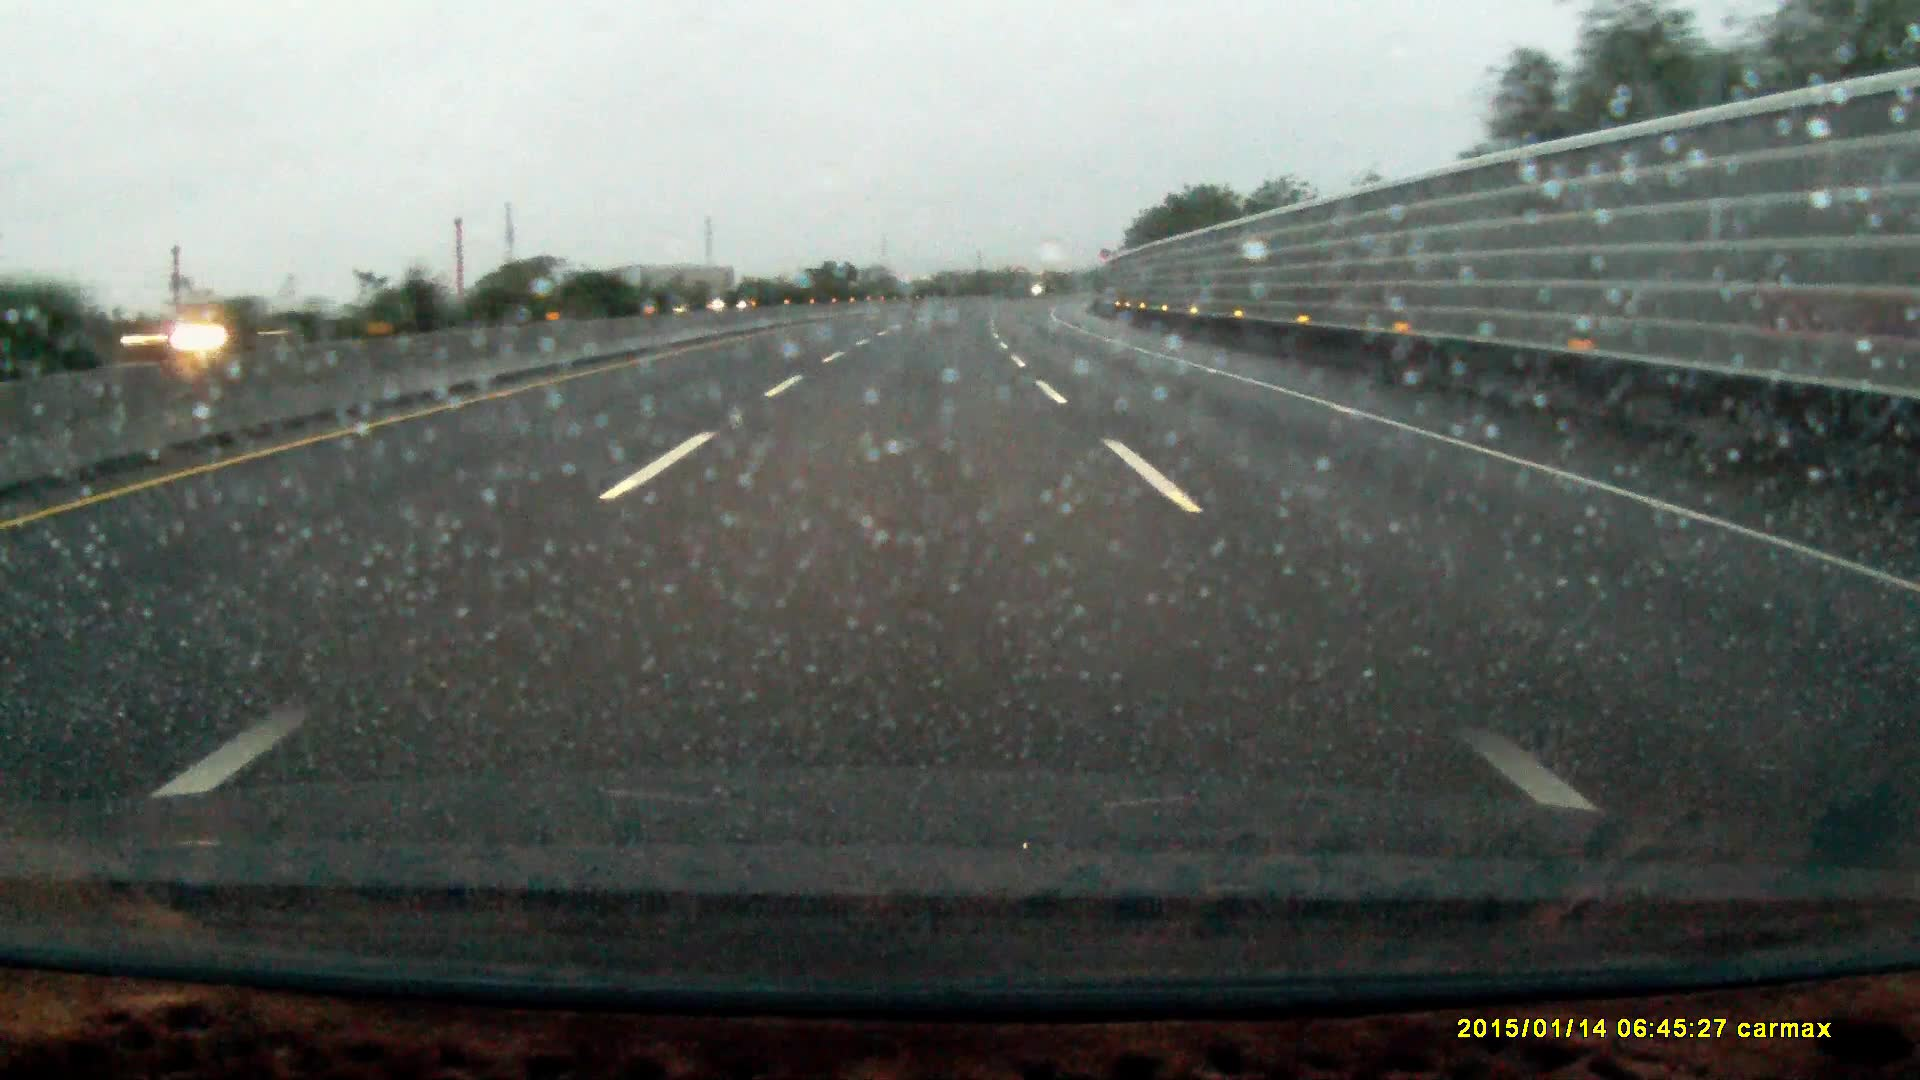vehicle: (113, 299, 305, 357)
